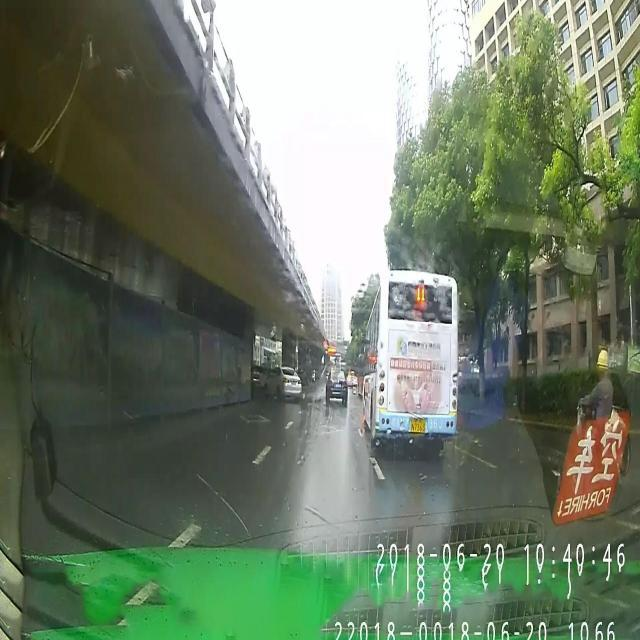car: (264, 365, 302, 403), (325, 364, 348, 410)
